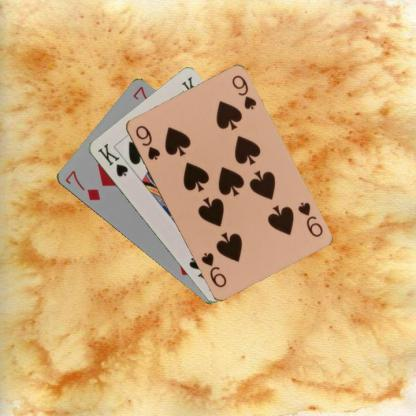7d: (62, 167, 102, 202)
9s: (295, 199, 324, 239), (132, 123, 162, 161)
Ks: (94, 140, 130, 178)
